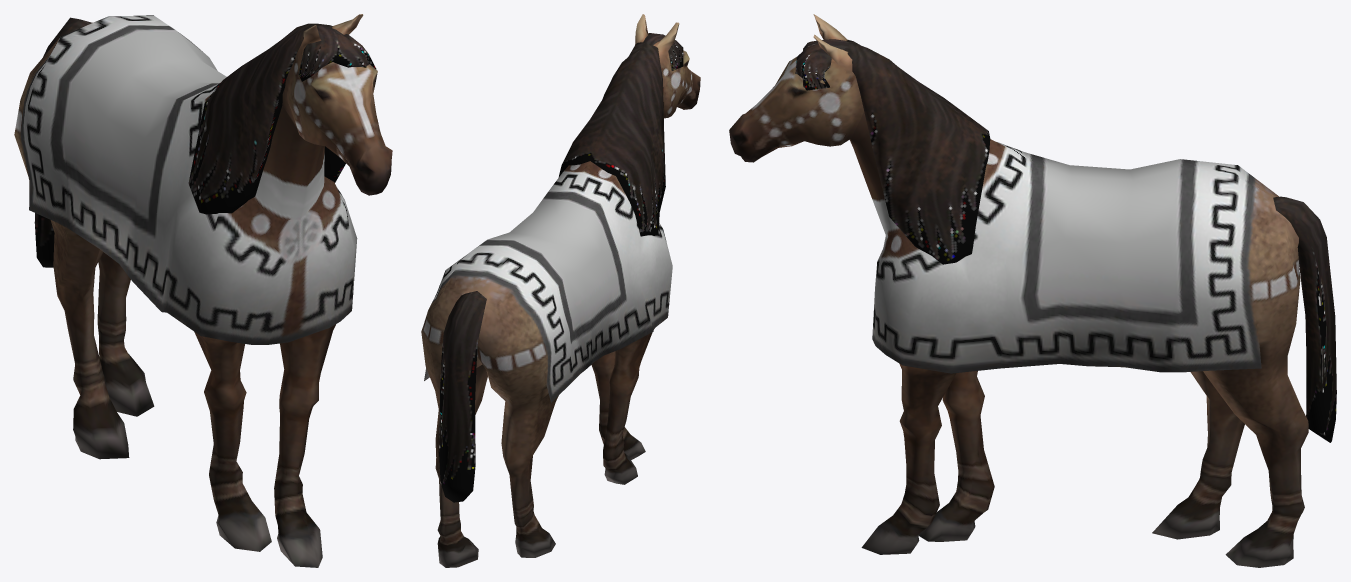
Rendered from body-heavycavalry.glb.
3 renders of one model, left to right at view 1: azimuth 30°, elevation 25°; view 2: azimuth 150°, elevation 25°; view 3: azimuth 270°, elevation 25°, orthographic. The views are drawn at different scales.
Size of the model in its own units: 0.776 by 2.51 by 2.66.
1 material, 1 textured.
